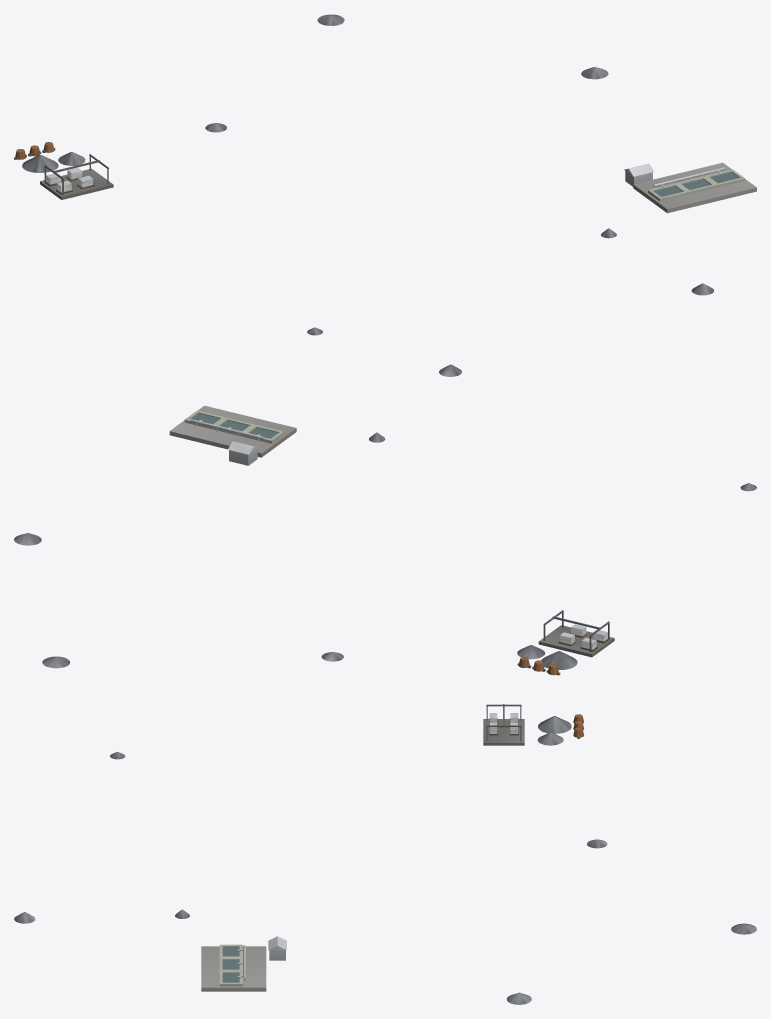
File: Theme_P3.fbx
The picture shows the model from 3 angles, top to bottom: view 1: azimuth 30°, elevation 25°; view 2: azimuth 150°, elevation 25°; view 3: azimuth 270°, elevation 25°; orthographic projection. The views are drawn at different scales.
Parts seen in each view (by area): view 1: Theme.LeachPonds, Theme.CathodeYard; view 2: Theme.LeachPonds, Theme.CathodeYard, Theme.PumpHouse; view 3: Theme.LeachPonds, Theme.CathodeYard.
Part boxes in pixels (bbox=[...]): Theme.LeachPonds: bbox=[633, 162, 756, 213]; Theme.CathodeYard: bbox=[40, 154, 113, 199]; Theme.LeachPonds: bbox=[169, 405, 296, 457]; Theme.CathodeYard: bbox=[538, 610, 614, 657]; Theme.PumpHouse: bbox=[228, 441, 258, 465]; Theme.LeachPonds: bbox=[201, 944, 266, 991]; Theme.CathodeYard: bbox=[483, 704, 524, 745].
Bounding box in the file's own units: 23910 × 1779 × 28661.
